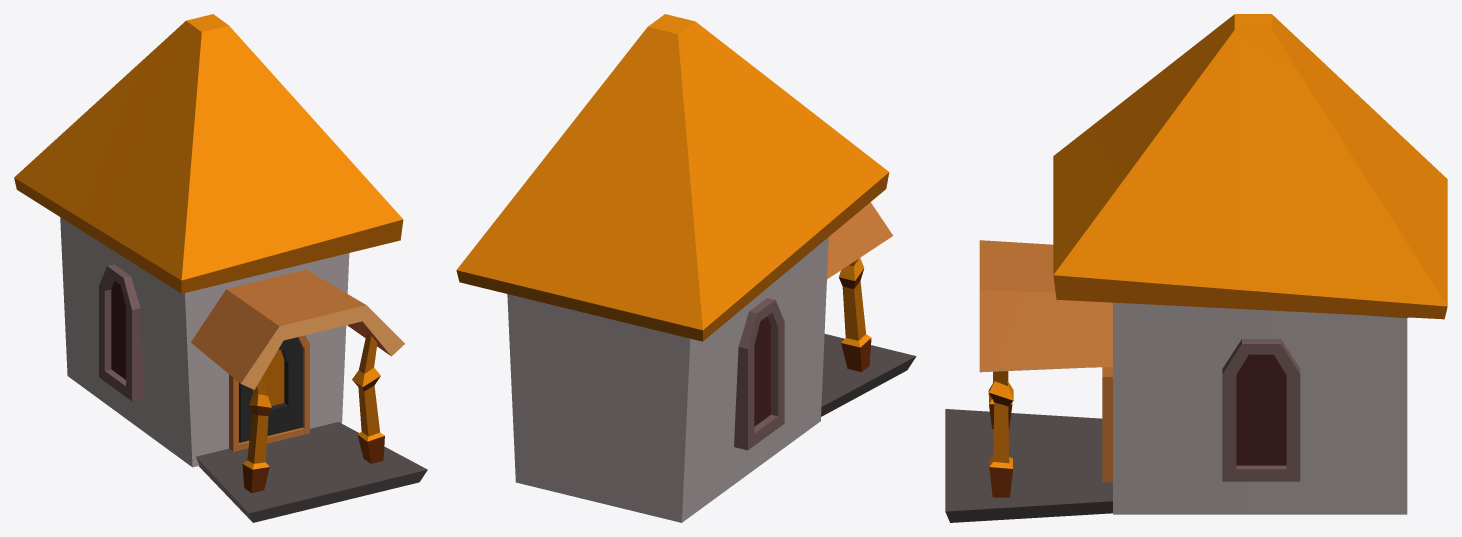
The model's file is HWN20_PetTomb_01.gltf.
3 renders of one model, left to right at view 1: azimuth 30°, elevation 25°; view 2: azimuth 150°, elevation 25°; view 3: azimuth 270°, elevation 25°, orthographic. The views are drawn at different scales.
Parts seen in each view (by area): view 1: HWN20_PetTomb_01_glb; view 2: HWN20_PetTomb_01_glb; view 3: HWN20_PetTomb_01_glb.
Part boxes in pixels (x1,y1,x2,y2): HWN20_PetTomb_01_glb: (14, 14, 427, 522); HWN20_PetTomb_01_glb: (456, 14, 916, 522); HWN20_PetTomb_01_glb: (945, 14, 1447, 522).
Size of what is drawn, in the model's own units: 1.93 by 3.21 by 3.22.
Materials: 1 (1 with a texture image).
